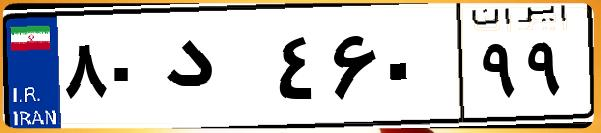0: (385, 28, 445, 110), (110, 28, 158, 98)
4: (270, 28, 330, 110)
6: (330, 28, 385, 110)
8: (57, 26, 110, 100)
9: (475, 38, 525, 113), (525, 38, 570, 115)
د: (158, 20, 270, 120)
